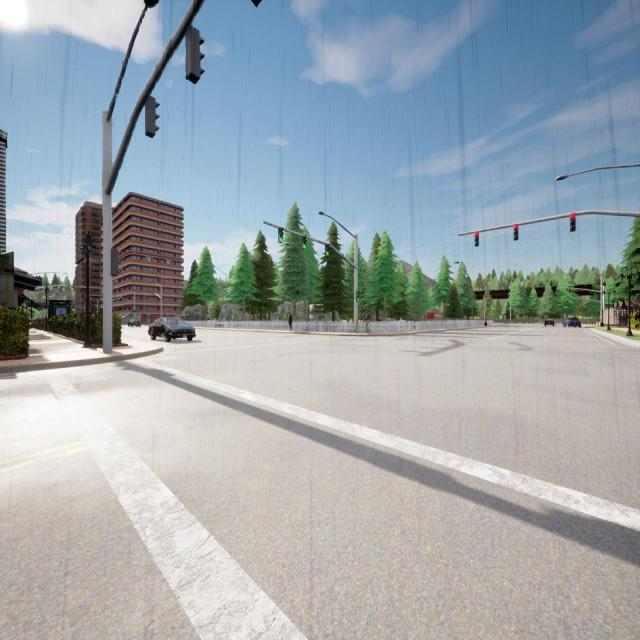Pedestrian: (364, 309, 370, 332), (289, 311, 292, 331)
Traffic_Signs: (500, 315, 502, 319)
Vehicle: (148, 318, 196, 342), (564, 317, 580, 327), (424, 312, 442, 320), (128, 319, 140, 327), (545, 318, 554, 326)
traffic_light: (186, 28, 204, 84), (145, 98, 160, 138), (111, 249, 118, 275), (513, 225, 519, 240), (570, 214, 575, 231), (278, 228, 283, 242), (301, 236, 306, 249), (475, 232, 479, 246), (325, 243, 329, 256), (356, 290, 359, 301), (569, 288, 571, 293), (101, 298, 103, 302), (114, 298, 116, 302), (134, 310, 135, 314), (90, 298, 92, 300), (580, 299, 581, 303), (567, 299, 568, 302), (558, 300, 558, 303)
